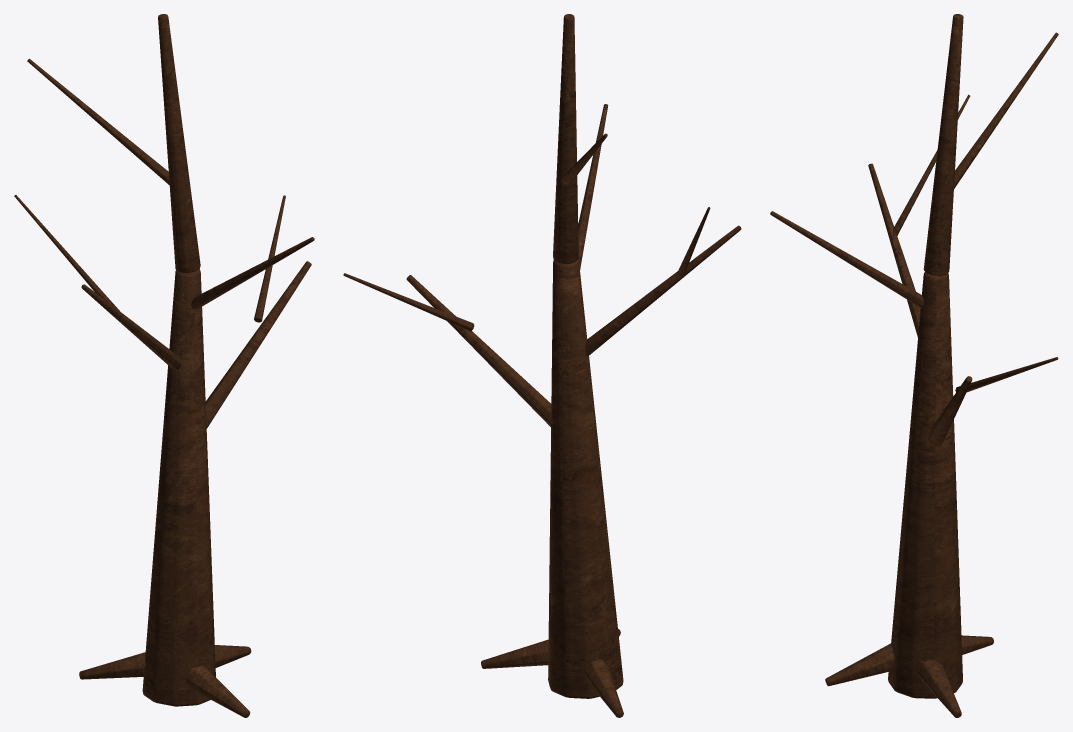
Rendered from prop_dead_tree.glb.
The picture shows the model from 3 angles, left to right: view 1: azimuth 30°, elevation 25°; view 2: azimuth 150°, elevation 25°; view 3: azimuth 270°, elevation 25°; orthographic projection. The views are drawn at different scales.
Visible parts, largest first — view 1: Trunk, Trunk2, Branch0, Branch3, Root2, Branch1, Branch2, Root1, Branch4, Branch5, Root0; view 2: Trunk, Trunk2, Branch0, Branch1, Root0, Branch2, Root1, Branch4; view 3: Trunk, Trunk2, Branch2, Branch1, Branch3, Root2, Root0, Branch0, Branch5, Branch4.
Boxes of the visible parts, <box> form: Trunk: <box>142,269,215,706</box>; Trunk2: <box>158,14,200,272</box>; Branch0: <box>205,261,311,428</box>; Branch3: <box>27,58,169,184</box>; Root2: <box>185,665,250,717</box>; Branch1: <box>81,284,181,369</box>; Branch2: <box>191,237,314,309</box>; Root1: <box>79,652,145,679</box>; Branch4: <box>254,195,285,322</box>; Branch5: <box>14,195,119,310</box>; Root0: <box>215,645,251,667</box>; Trunk: <box>548,259,623,698</box>; Trunk2: <box>553,14,578,264</box>; Branch0: <box>406,275,551,426</box>; Branch1: <box>585,225,741,356</box>; Root0: <box>481,639,548,668</box>; Branch2: <box>578,104,608,269</box>; Root1: <box>584,659,623,717</box>; Branch4: <box>343,273,474,331</box>; Trunk: <box>888,272,962,698</box>; Trunk2: <box>923,14,963,275</box>; Branch2: <box>770,211,923,308</box>; Branch1: <box>868,163,920,336</box>; Branch3: <box>954,32,1058,188</box>; Root2: <box>825,643,894,686</box>; Root0: <box>916,660,961,717</box>; Branch0: <box>928,376,972,446</box>; Branch5: <box>893,94,970,235</box>; Branch4: <box>955,357,1058,392</box>.
Size of the model in its own units: 3.32 by 6.72 by 2.62.
1 material, 1 textured.
